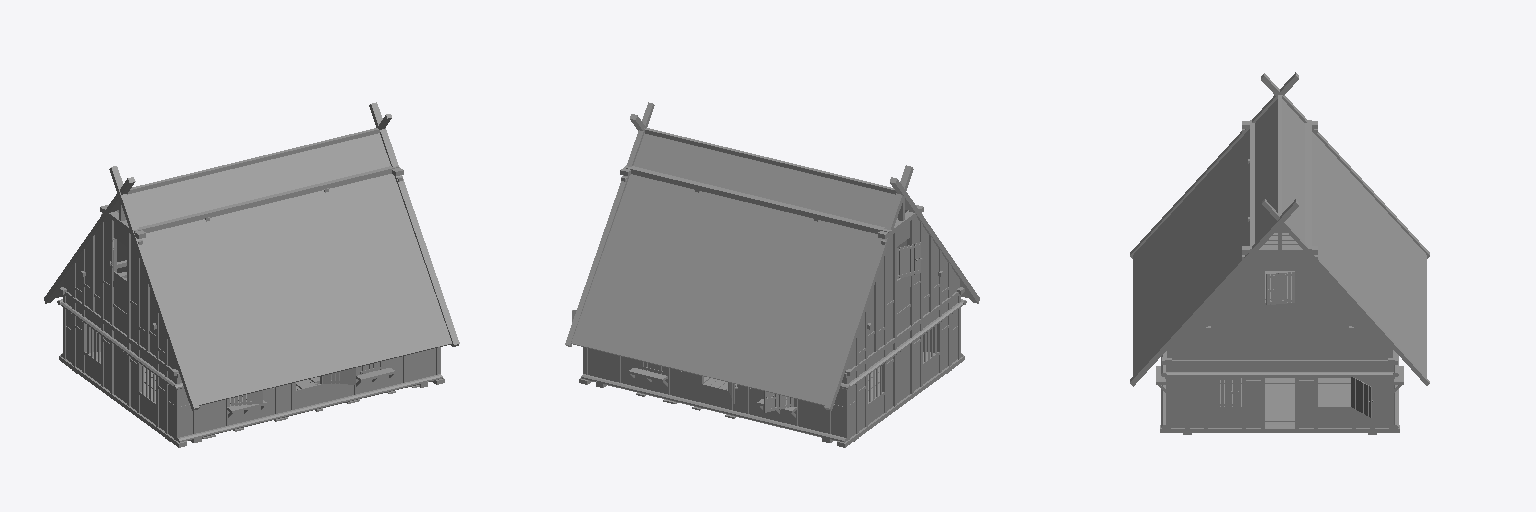
Rendered from -LOD1_c_hut_06.obj.
3 renders of one model, left to right at view 1: azimuth 30°, elevation 25°; view 2: azimuth 150°, elevation 25°; view 3: azimuth 270°, elevation 25°, orthographic.
Visible parts, largest first — view 1: Cube.009_Cube.021, Cube.006_Cube.024, Cube.008_Cube.023, Cube.004_Cube.022; view 2: Cube.009_Cube.021, Cube.006_Cube.024, Cube.008_Cube.023, Cube.004_Cube.022; view 3: Cube.009_Cube.021, Cube.006_Cube.024, Cube.008_Cube.023, Cube.004_Cube.022.
Part boxes in pixels (x1,y1,x2,y2): Cube.009_Cube.021: (54, 133, 451, 405); Cube.006_Cube.024: (44, 102, 459, 447); Cube.008_Cube.023: (64, 217, 435, 437); Cube.004_Cube.022: (110, 238, 386, 405); Cube.009_Cube.021: (571, 133, 969, 405); Cube.006_Cube.024: (565, 102, 979, 447); Cube.008_Cube.023: (588, 217, 959, 437); Cube.004_Cube.022: (572, 242, 922, 412); Cube.009_Cube.021: (1133, 99, 1426, 377); Cube.006_Cube.024: (1130, 72, 1429, 434); Cube.008_Cube.023: (1167, 227, 1392, 427); Cube.004_Cube.022: (1165, 272, 1394, 417).
Bounding box in the file's own units: 18.39 × 13.68 × 15.93.